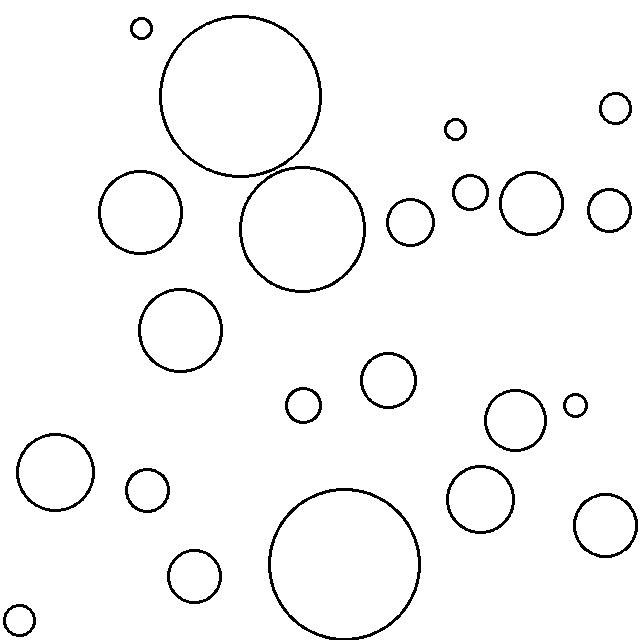circle: (155, 12, 324, 179), (265, 485, 423, 640), (237, 163, 368, 295), (96, 167, 186, 258), (138, 283, 225, 376), (15, 429, 97, 514), (445, 463, 517, 536), (498, 168, 567, 239), (570, 489, 638, 560), (482, 386, 550, 454), (357, 350, 421, 412), (164, 546, 224, 607), (383, 195, 439, 248), (122, 465, 174, 516), (585, 186, 635, 235), (450, 171, 492, 213), (282, 386, 325, 427), (598, 88, 635, 128), (2, 600, 39, 638), (562, 390, 590, 419), (443, 115, 470, 144), (128, 14, 155, 42)
